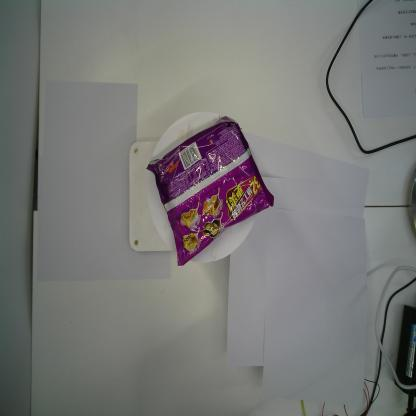Instant Noodles: (146, 115, 275, 267)
